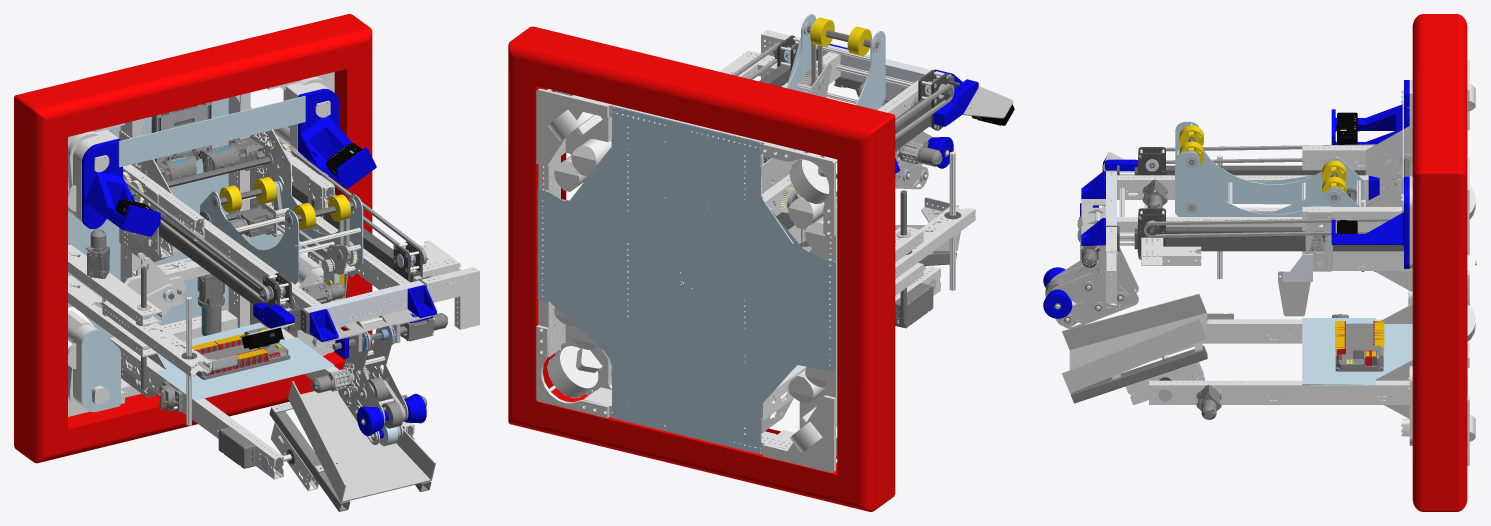
3 views of the same model, side by side, from view 1: azimuth 30°, elevation 25°; view 2: azimuth 150°, elevation 25°; view 3: azimuth 270°, elevation 25° (orthographic). The views are drawn at different scales.
Visible parts, largest first — view 1: Bumpers, Funnel, Bellypan, Front Coral Guard, Funnel Electrical Panel, Front Limelight Mount A, Front Limelight Mount B, MAXTube, 2x1 with MAX Pattern.013, 2" x 1" x 0.0625" Aluminum Tube Stock 2" Pattern (47") (WCP- (×3), Pod Cover, Side Plate, 2" x 1" x 0.125" Aluminum Tube Stock 2" Pattern (47") (WCP-1 (+44 smaller); view 2: Bellypan, Bumpers, Block MK4n B, Block MK4n A, Block MK4n B.001, Block MK4n A.001, MAXTube, 2x1 with MAX Pattern.001, Thrifty 2" x 1" Grid Pattern Aluminum Extrusion, Side Plate, 2" x 1" x 0.125" Aluminum Tube Stock 2" Pattern (47") (WCP-1, MAXTube, 2x1 with MAX Pattern.013, Robot Radio (VH-109) (+14 smaller); view 3: Bumpers, Funnel, MAXTube, 2x1 with MAX Pattern.012, Funnel Electrical Panel, 2025 2x1_bulk v2, 06-001-25 Side Plate with Motor, Side Plate, 03-001-25 - Gripper Side Plate, Simplified PDH, MAXTube, 2x1 with MAX Pattern.013, Elevator Gusset.001, 218 links #25 chain (+31 smaller).
Boxes of the visible parts, x1,y1,x2,y2 form: Bumpers: (14, 14, 372, 463); Funnel: (288, 381, 435, 502); Bellypan: (68, 98, 307, 338); Front Coral Guard: (118, 96, 305, 167); Funnel Electrical Panel: (156, 322, 334, 400); Front Limelight Mount A: (81, 138, 160, 236); Front Limelight Mount B: (298, 89, 376, 188); MAXTube, 2x1 with MAX Pattern.013: (109, 337, 283, 479); 2" x 1" x 0.0625" Aluminum Tube Stock 2" Pattern (47") (WCP- (×3): (421, 254, 479, 329); Pod Cover: (81, 330, 120, 412); Side Plate: (200, 191, 299, 284); 2" x 1" x 0.125" Aluminum Tube Stock 2" Pattern (47") (WCP-1: (303, 280, 424, 332); Bellypan: (537, 106, 835, 453); Bumpers: (508, 26, 895, 511); Block MK4n B: (536, 88, 611, 191); Block MK4n A: (536, 307, 611, 418); Block MK4n B.001: (763, 367, 837, 472); Block MK4n A.001: (763, 143, 837, 252); MAXTube, 2x1 with MAX Pattern.001: (895, 204, 975, 278); Thrifty 2" x 1" Grid Pattern Aluminum Extrusion: (538, 145, 560, 357); Side Plate: (855, 31, 885, 109); 2" x 1" x 0.125" Aluminum Tube Stock 2" Pattern (47") (WCP-1: (822, 45, 951, 88); MAXTube, 2x1 with MAX Pattern.013: (761, 266, 940, 420); Robot Radio (VH-109): (895, 283, 933, 328); Bumpers: (1412, 14, 1467, 511); Funnel: (1062, 293, 1207, 393); MAXTube, 2x1 with MAX Pattern.012: (1149, 380, 1409, 404); Funnel Electrical Panel: (1302, 318, 1412, 385); 2025 2x1_bulk v2: (1166, 227, 1403, 251); 06-001-25 Side Plate with Motor: (1175, 151, 1359, 216); Side Plate: (1175, 121, 1364, 204); 03-001-25 - Gripper Side Plate: (1051, 220, 1138, 328); Simplified PDH: (1335, 321, 1384, 371); MAXTube, 2x1 with MAX Pattern.013: (1204, 319, 1383, 343); Elevator Gusset.001: (1365, 125, 1412, 206); 218 links #25 chain: (1144, 218, 1392, 237).
Bounding box in the file's own units: 87.28 × 87.28 × 101.
